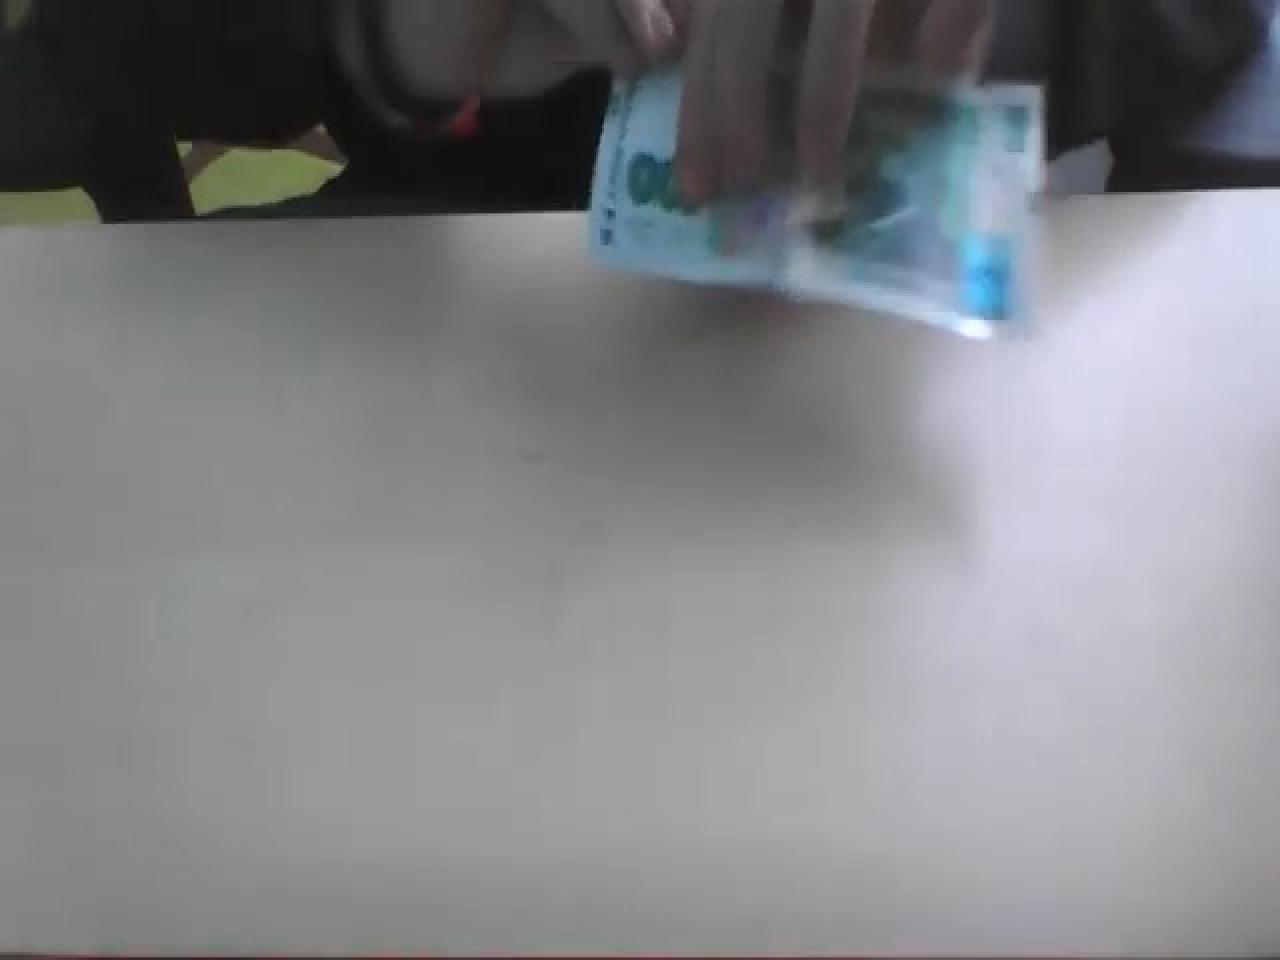100leva: (586, 50, 1050, 341)
